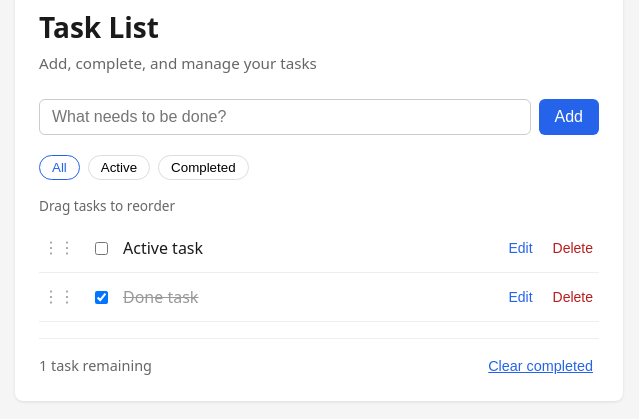
Scenario: App › filters tasks by completion status
Expected: the text "Active task" is shown, [123,237,203,259]
Click the button "Completed" at (203, 167), box [158,155,249,180]
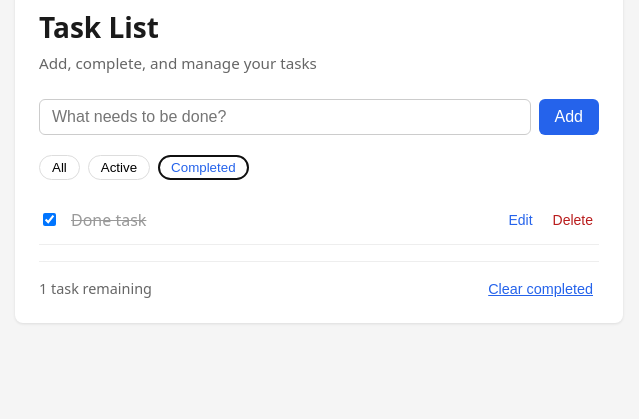
Expected: the text "Done task" is shown, [71,209,146,231]
Expected: the text "Active task" is gone
